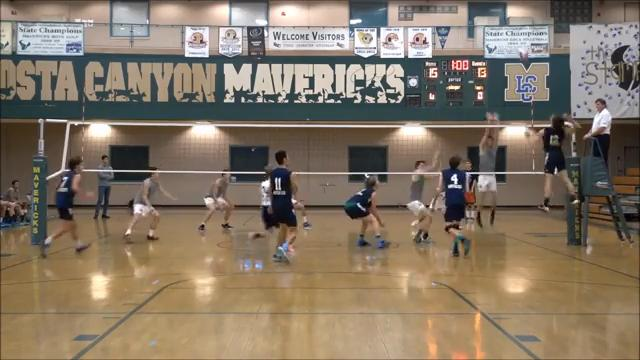attacco: (518, 109, 590, 217)
muro: (473, 107, 504, 232)
